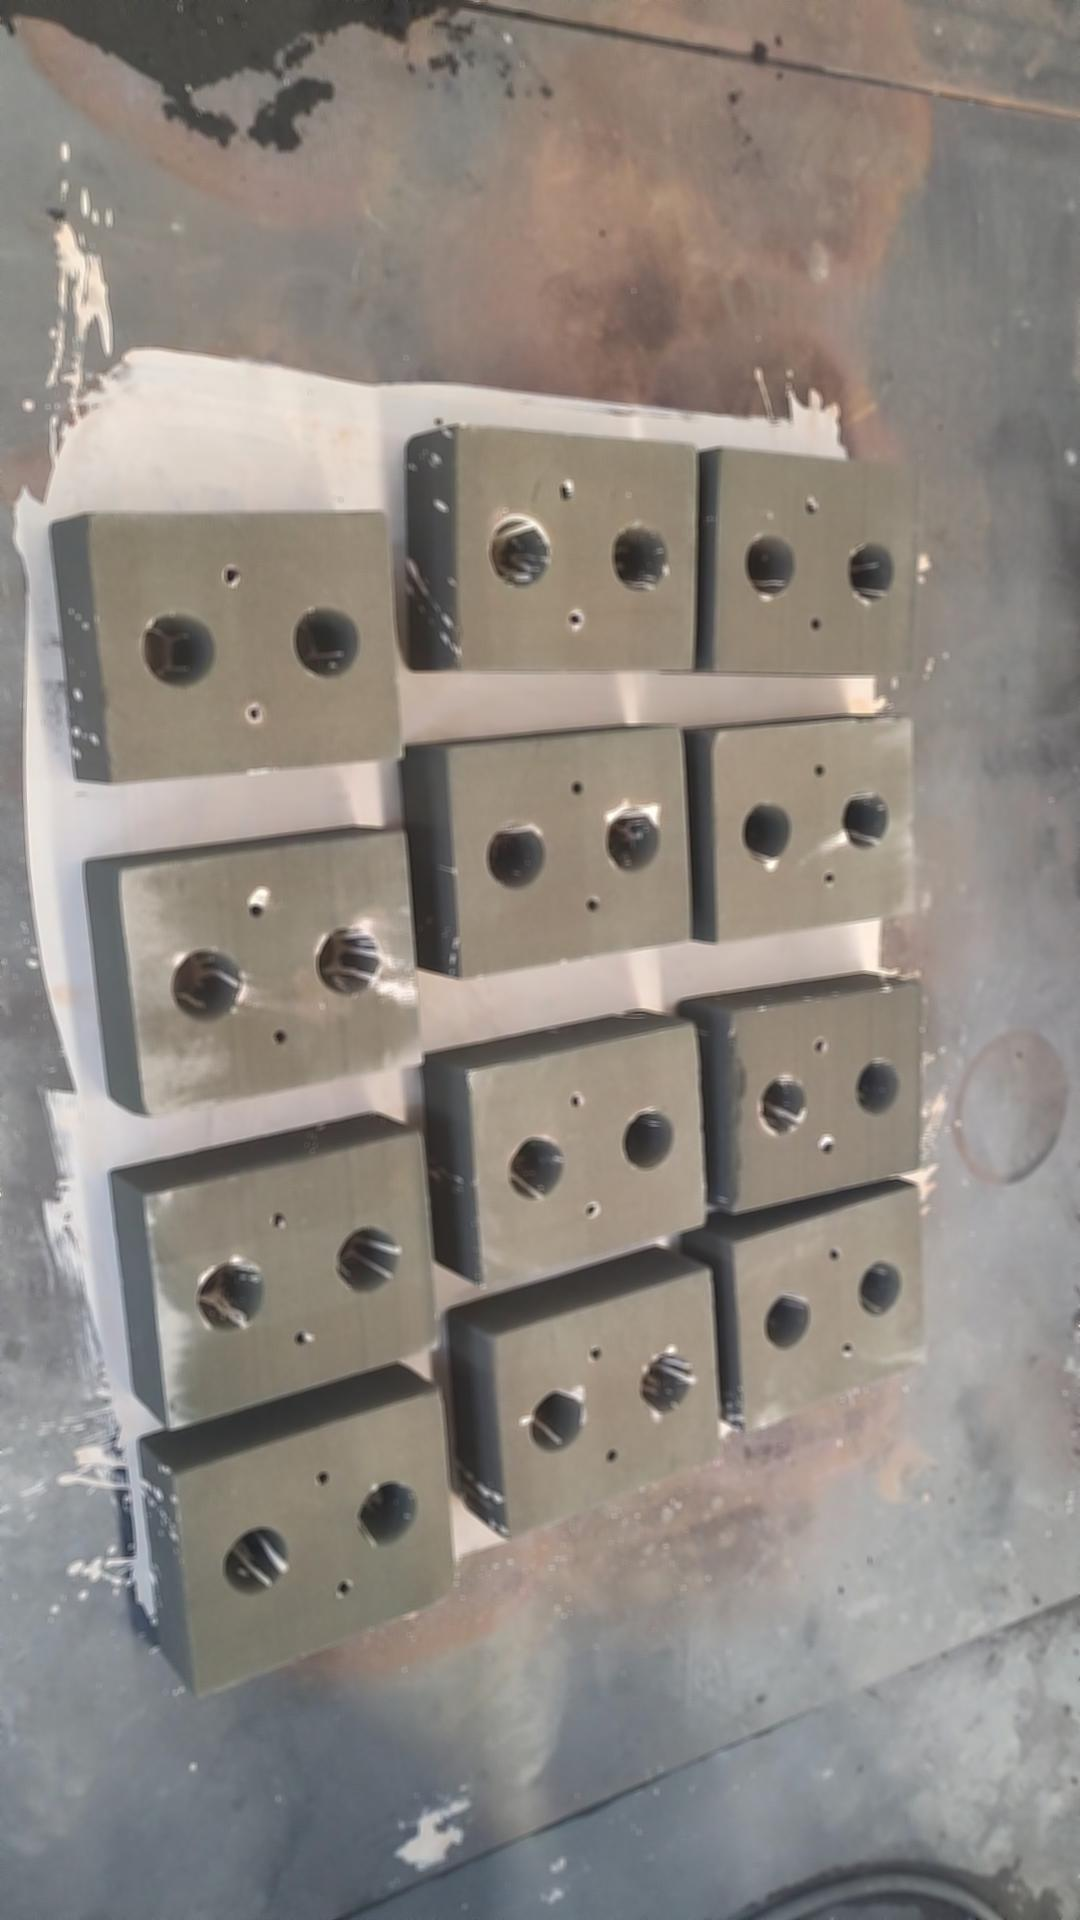pouring hole: (167, 944, 245, 1025), (140, 615, 218, 688), (218, 1524, 291, 1598), (289, 605, 361, 678), (313, 922, 382, 997), (191, 1261, 266, 1331), (487, 513, 551, 588), (483, 818, 549, 890), (334, 1224, 400, 1294), (356, 1481, 419, 1548), (508, 1135, 567, 1200), (605, 811, 665, 874), (620, 1108, 676, 1172), (638, 1352, 695, 1416), (615, 525, 670, 589), (756, 1072, 808, 1138), (530, 1390, 585, 1452), (745, 531, 798, 596), (843, 541, 895, 603), (740, 802, 793, 862), (762, 1291, 812, 1352), (840, 790, 891, 848), (855, 1059, 901, 1118), (855, 1261, 902, 1317)
